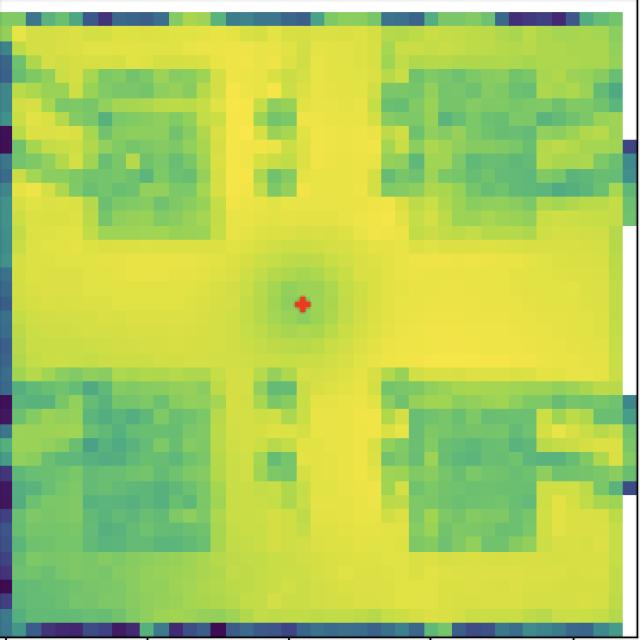Concrete: (408, 379, 539, 553)
Glass: (82, 378, 212, 554)
Metal: (408, 67, 538, 242)
Wood: (82, 66, 220, 241)
